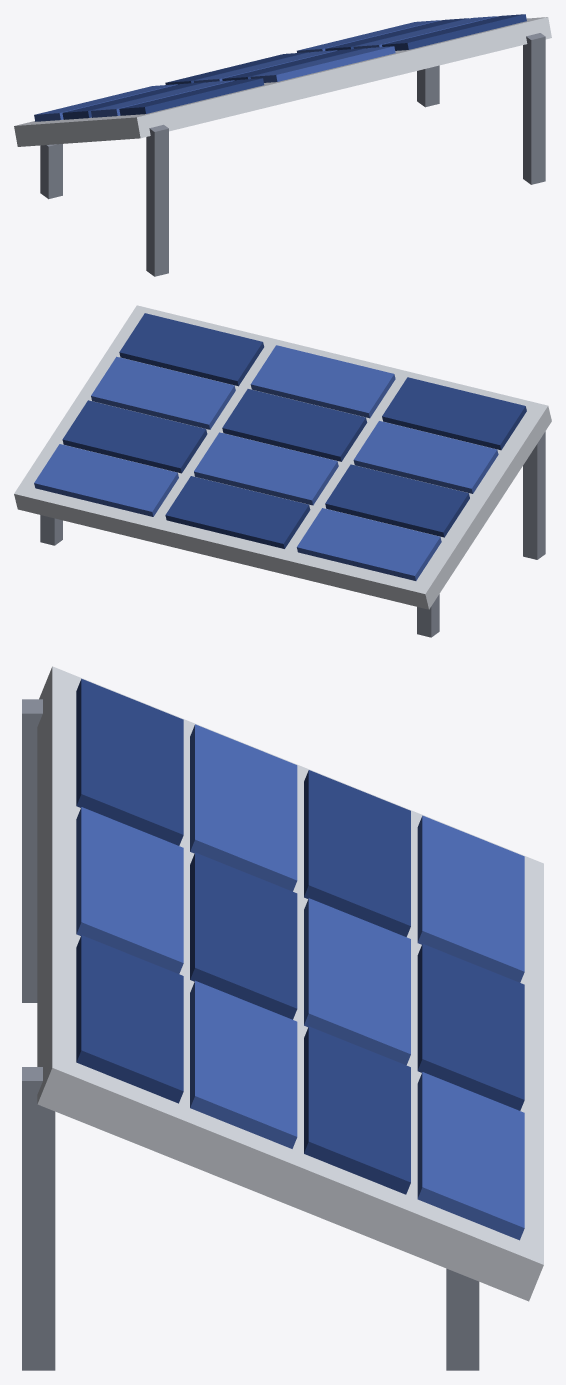
Rendered from solar-panel-landscape.glb.
3 views of the same model, one above another, from view 1: azimuth 30°, elevation 25°; view 2: azimuth 150°, elevation 25°; view 3: azimuth 270°, elevation 25° (orthographic). The views are drawn at different scales.
Visible parts, largest first — view 1: solar-panel-landscape; view 2: solar-panel-landscape; view 3: solar-panel-landscape.
Boxes of the visible parts, left/top/right/bottom form: solar-panel-landscape: left=14, top=14, right=551, bottom=276; solar-panel-landscape: left=14, top=305, right=551, bottom=637; solar-panel-landscape: left=22, top=666, right=543, bottom=1370.
Bounding box in the file's own units: 0.71 × 0.26 × 0.39.
Materials: 1 (1 with a texture image).
